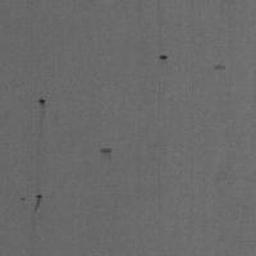Inclusion: (34, 193, 43, 212), (100, 148, 112, 160), (38, 97, 46, 109), (158, 54, 168, 63), (213, 64, 226, 70)
